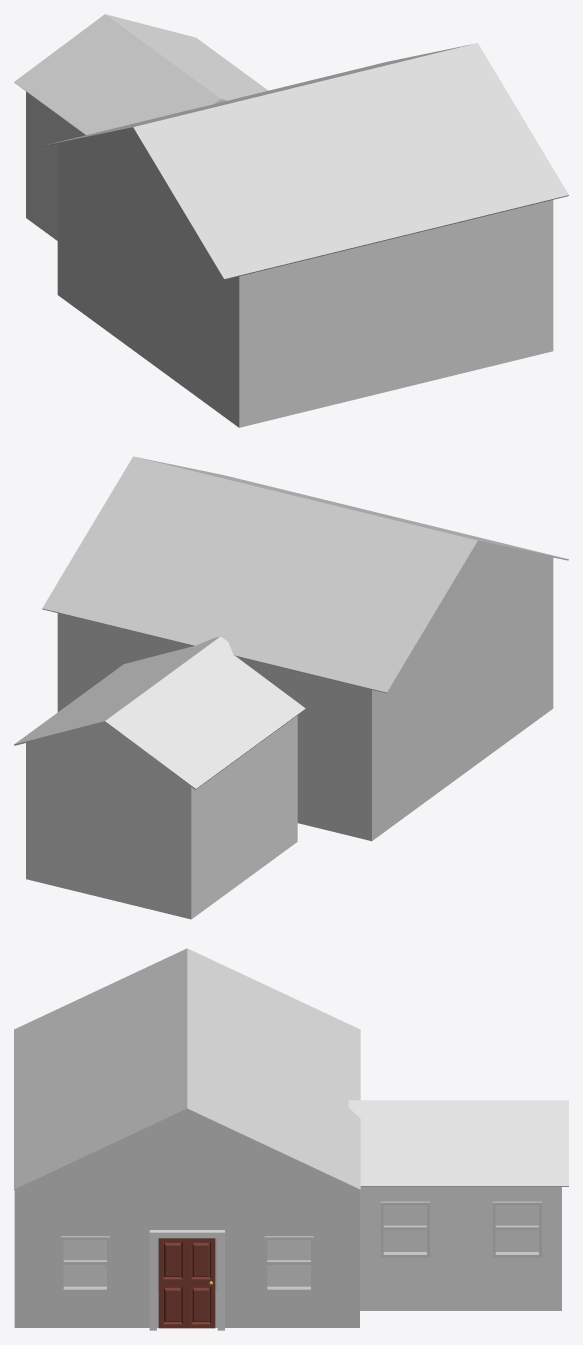
Rendered from house.fbx.
3 views of the same model, one above another, from view 1: azimuth 30°, elevation 25°; view 2: azimuth 150°, elevation 25°; view 3: azimuth 270°, elevation 25° (orthographic). The views are drawn at different scales.
Parts seen in each view (by area): view 1: Cube, Cube.001, Cube.004, Cube.003; view 2: Cube.001, Cube, Cube.003, Cube.004; view 3: Cube.001, Cube, Cube.003, Cube.004, Plane.031, Sphere.006, Plane.018, Plane.032, Cube.007.
Part boxes in pixels (box(x1,y1,x2,y2)): Cube: box(57, 128, 553, 427); Cube.001: box(42, 43, 568, 279); Cube.004: box(14, 14, 267, 134); Cube.003: box(26, 91, 224, 240); Cube.001: box(42, 456, 568, 693); Cube: box(57, 542, 553, 841); Cube.003: box(26, 715, 297, 919); Cube.004: box(14, 636, 305, 789); Cube.001: box(14, 948, 360, 1190); Cube: box(14, 1110, 359, 1327); Cube.003: box(360, 1187, 561, 1310); Cube.004: box(348, 1100, 568, 1186); Plane.031: box(60, 1236, 313, 1292); Sphere.006: box(158, 1238, 215, 1328); Plane.018: box(492, 1201, 541, 1257); Plane.032: box(380, 1201, 429, 1257); Cube.007: box(149, 1230, 224, 1330).
Bounding box in the file's own units: 1624 × 1155 × 2378.
